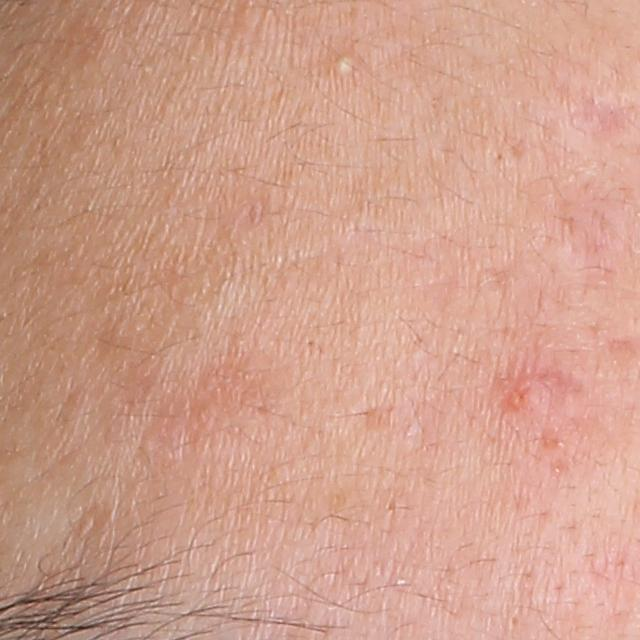papule: (496, 372, 546, 418)
